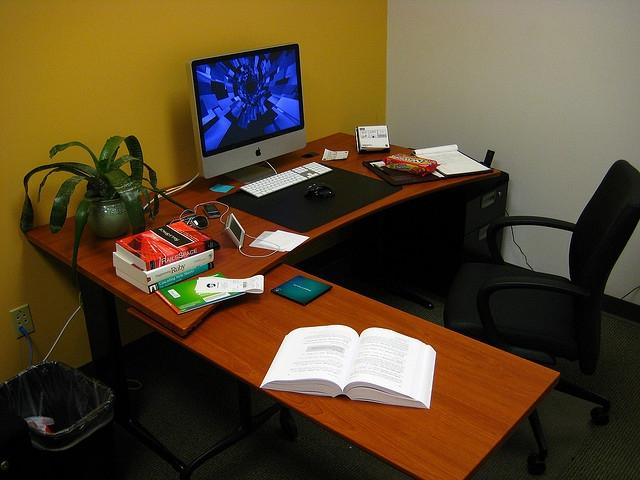apple: (255, 147, 261, 157)
